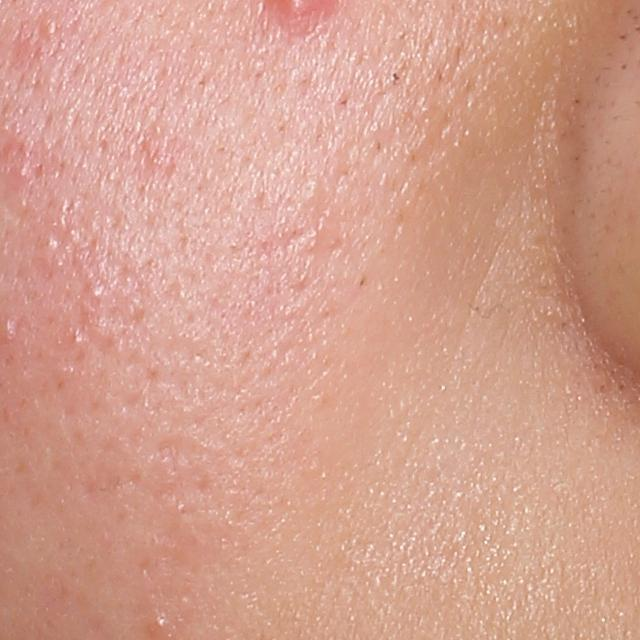comedo: (39, 12, 58, 39), (88, 282, 107, 301), (42, 232, 59, 252)
